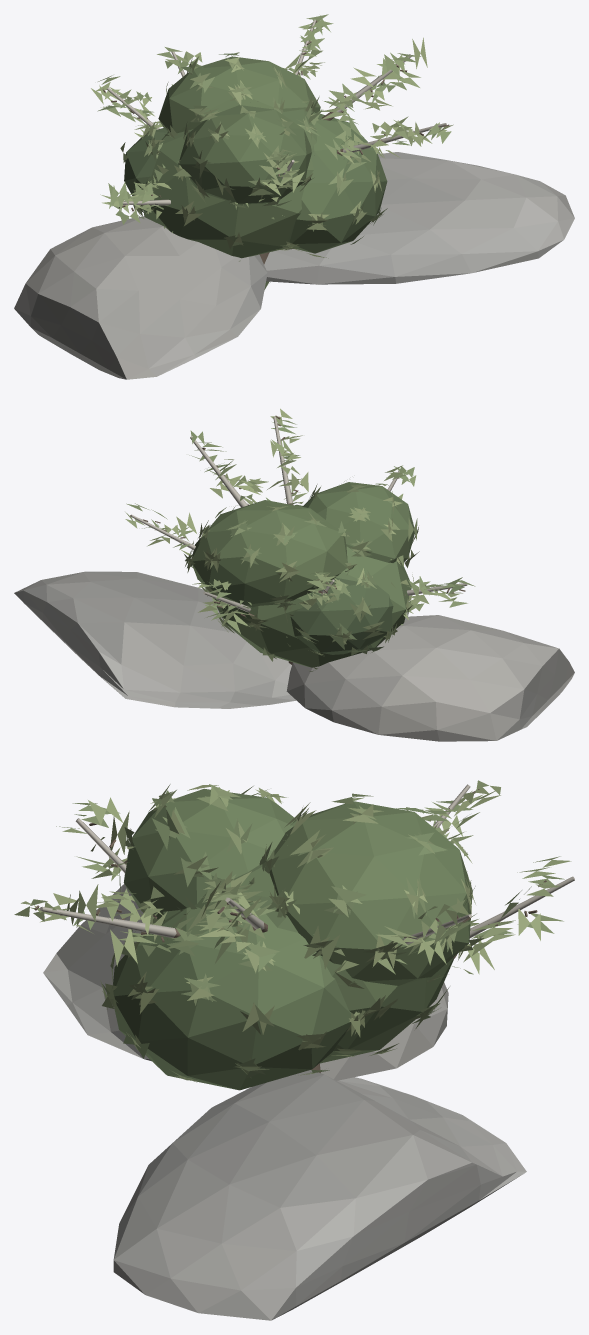
The model's file is bush.glb.
The picture shows the model from 3 angles, top to bottom: view 1: azimuth 30°, elevation 25°; view 2: azimuth 150°, elevation 25°; view 3: azimuth 270°, elevation 25°; orthographic projection. The views are drawn at different scales.
Visible parts, largest first — view 1: bush; view 2: bush; view 3: bush.
Boxes of the visible parts, box(x1,y1,x2,y2) form: bush: box(14, 14, 574, 379); bush: box(14, 408, 574, 741); bush: box(14, 780, 574, 1320).
Size of the model in its own units: 1.62 by 0.6676 by 0.9673.
